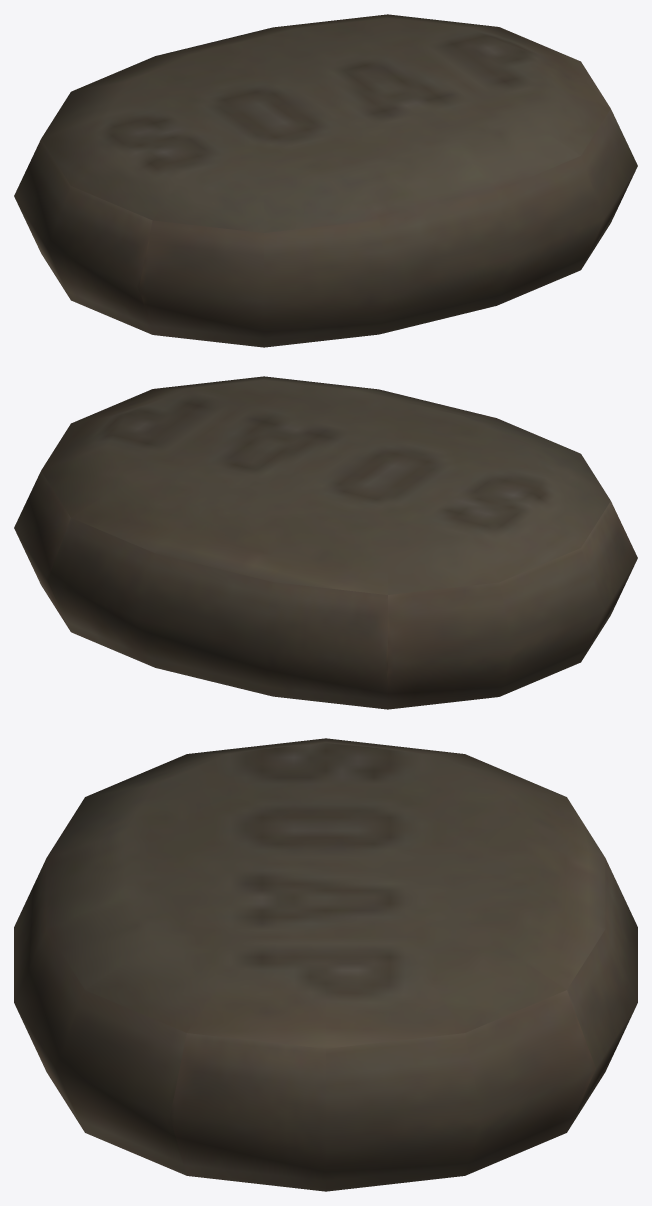
File: soap_mx_1.obj
The picture shows the model from 3 angles, top to bottom: view 1: azimuth 30°, elevation 25°; view 2: azimuth 150°, elevation 25°; view 3: azimuth 270°, elevation 25°; orthographic projection. The views are drawn at different scales.
Visible parts, largest first — view 1: soap_mx_1; view 2: soap_mx_1; view 3: soap_mx_1.
Part boxes in pixels (x1,y1,x2,y2): soap_mx_1: [14, 14, 637, 347]; soap_mx_1: [14, 376, 637, 709]; soap_mx_1: [14, 738, 637, 1191].
Bounding box in the file's own units: 0.1264 × 0.0351 × 0.0983.
